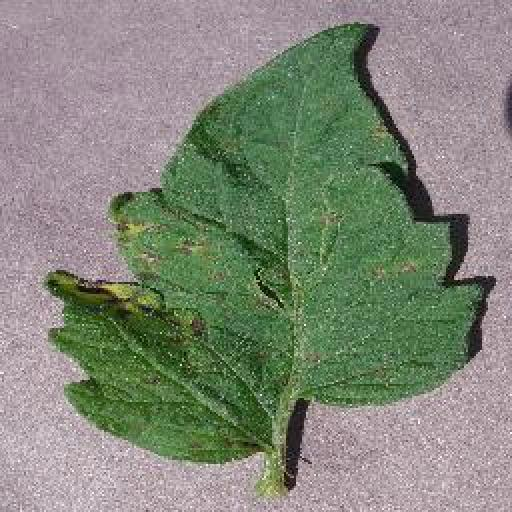disease_tomato: (46, 20, 482, 462)
